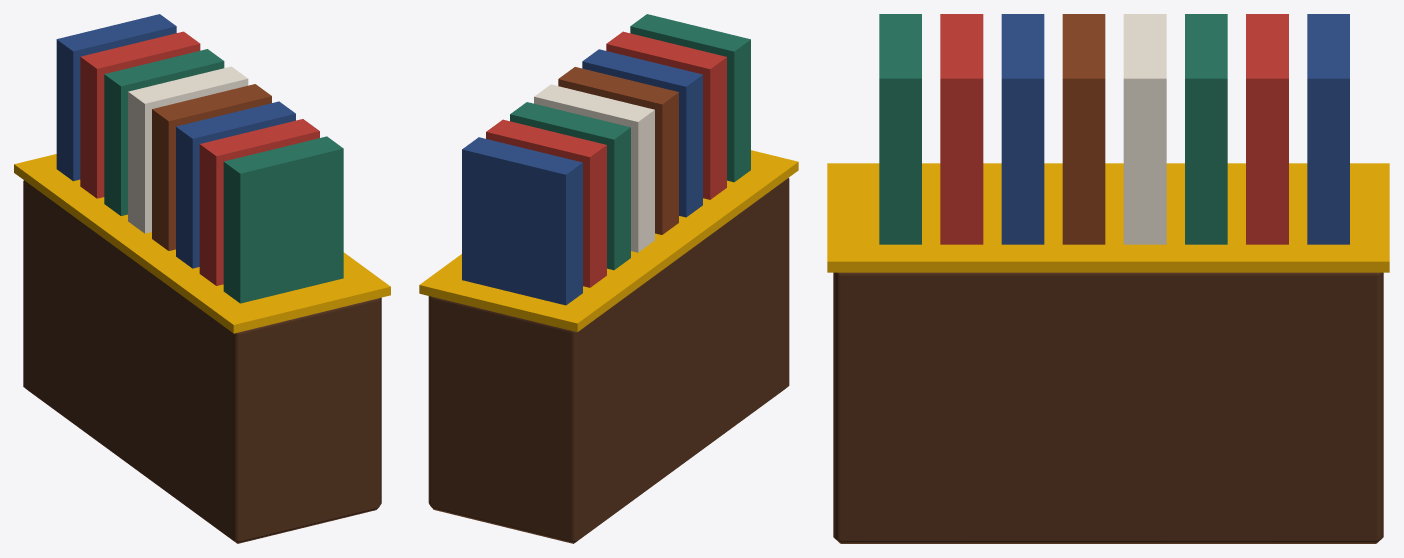
File: station_transport_ausstattung_2_1.glb
3 renders of one model, left to right at view 1: azimuth 30°, elevation 25°; view 2: azimuth 150°, elevation 25°; view 3: azimuth 270°, elevation 25°, orthographic. The views are drawn at different scales.
Visible parts, largest first — view 1: station_transport_ausstattung_2_1; view 2: station_transport_ausstattung_2_1; view 3: station_transport_ausstattung_2_1.
Part boxes in pixels (bbox=[...]): station_transport_ausstattung_2_1: bbox=[14, 14, 390, 543]; station_transport_ausstattung_2_1: bbox=[419, 14, 798, 543]; station_transport_ausstattung_2_1: bbox=[827, 14, 1389, 543].
Bounding box in the file's own units: 0.38 × 0.82 × 0.92.
